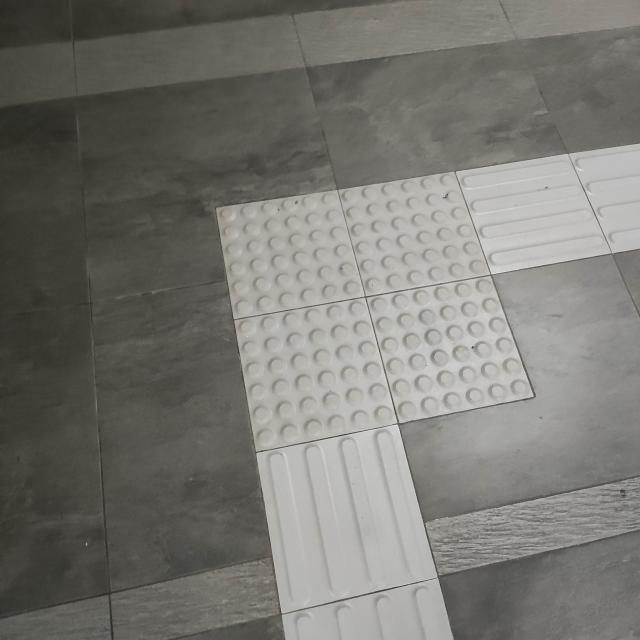kanan: (127, 130, 640, 482)
